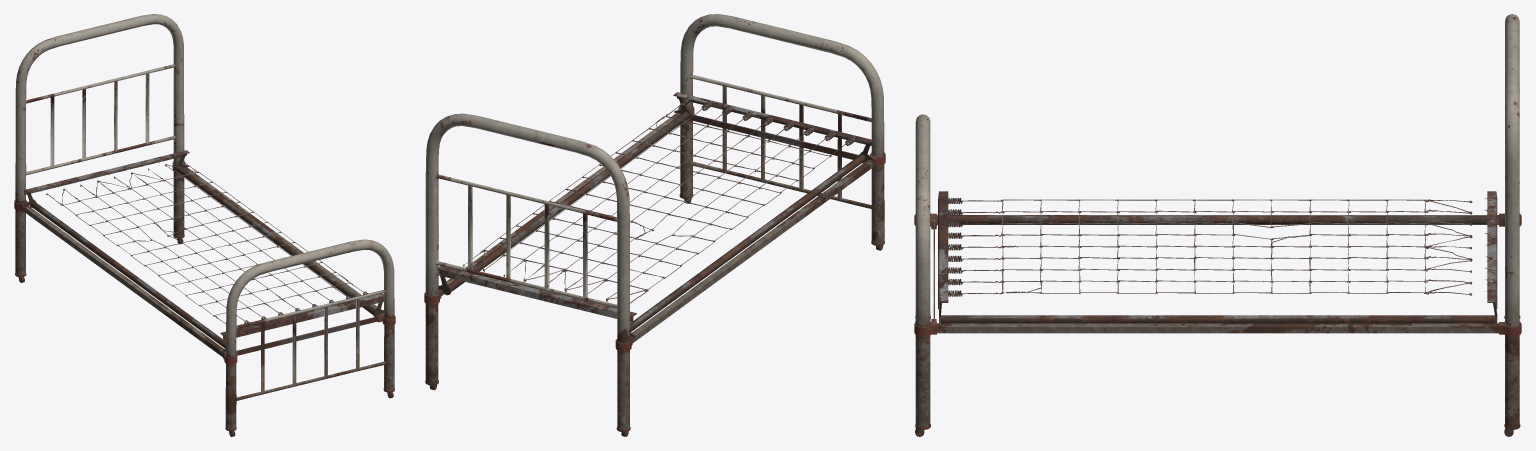
The model's file is bed_frame.glb.
3 views of the same model, side by side, from view 1: azimuth 30°, elevation 25°; view 2: azimuth 150°, elevation 25°; view 3: azimuth 270°, elevation 25° (orthographic). The views are drawn at different scales.
Parts seen in each view (by area): view 1: old_bed_frame; view 2: old_bed_frame; view 3: old_bed_frame.
Part boxes in pixels (box(x1,y1,x2,y2)): old_bed_frame: box(14, 14, 395, 436); old_bed_frame: box(424, 14, 885, 436); old_bed_frame: box(914, 14, 1521, 436).
Bounding box in the file's own units: 0.9039 × 1.2 × 2.
Materials: 1 (1 with a texture image).
